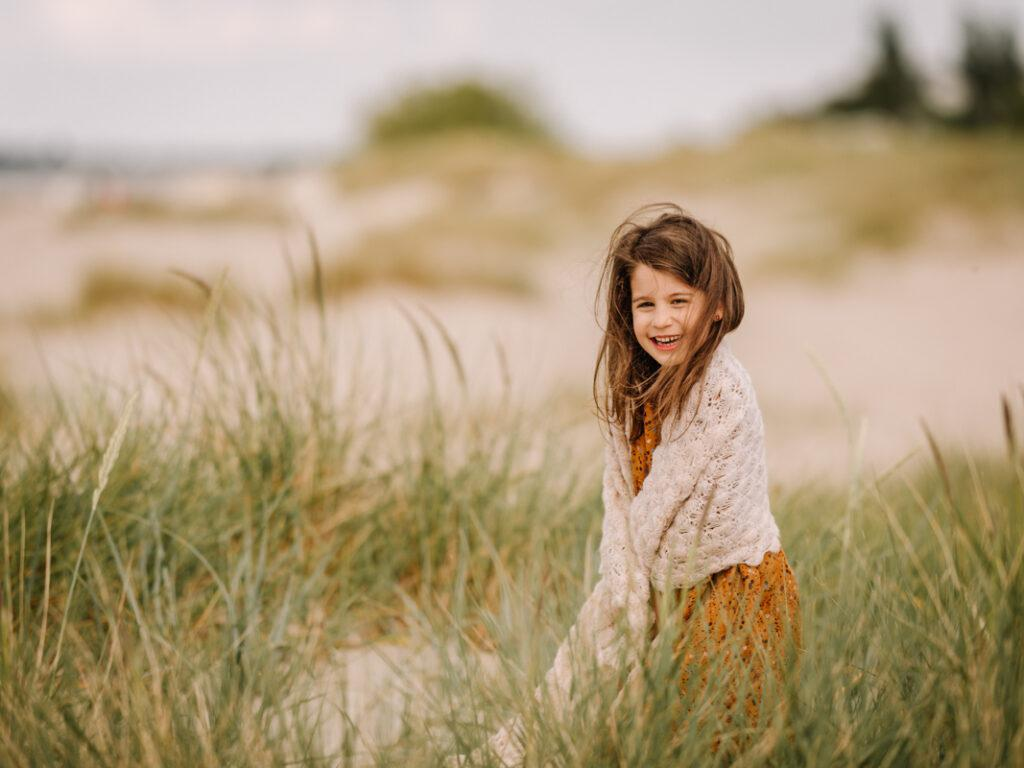child: (545, 197, 823, 761)
